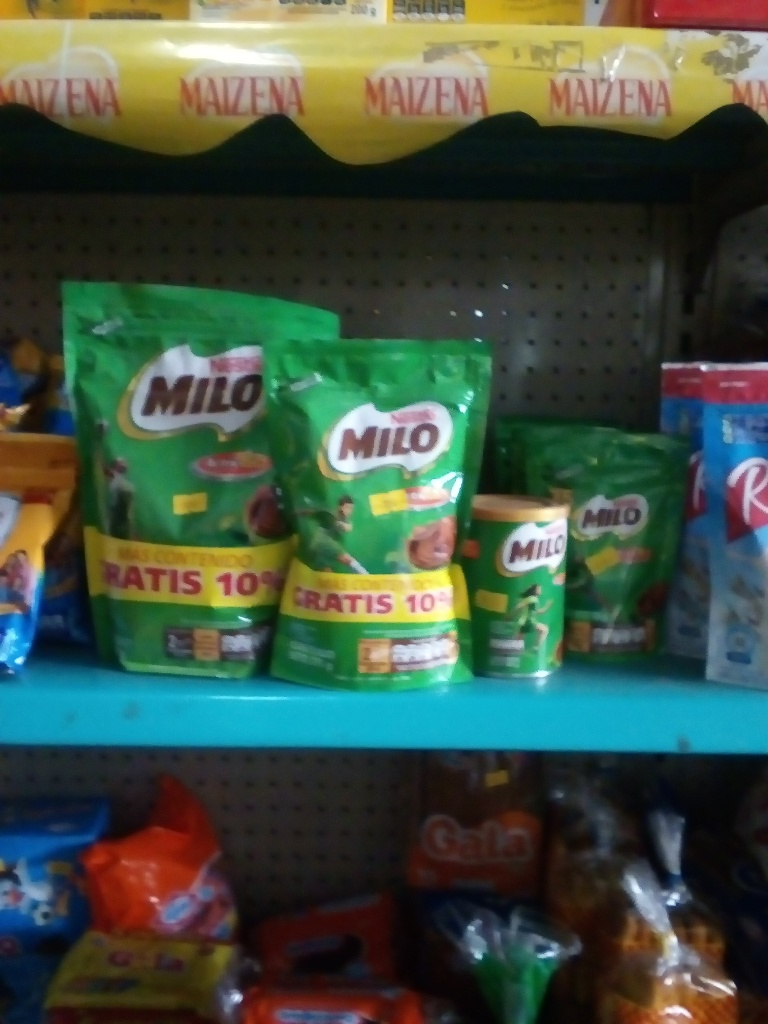COL0170203LAT20000: (438, 479, 569, 692)
